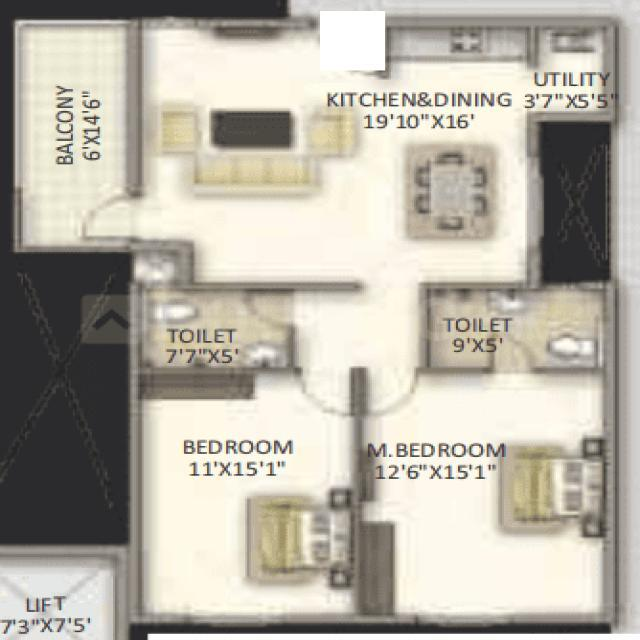Balcony-Sitout: (20, 24, 126, 247)
Bedroom: (143, 373, 353, 614)
Bedroom with Toilet: (361, 286, 605, 613)
Dining: (406, 142, 497, 237)
Kitchen: (380, 20, 531, 137)
Living: (138, 21, 360, 285)
Toilet: (429, 291, 602, 366), (143, 291, 292, 367)
Utility: (532, 26, 610, 112)
